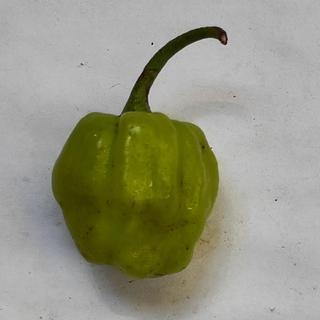Fly-bites: (196, 141, 211, 154), (183, 244, 194, 256)
